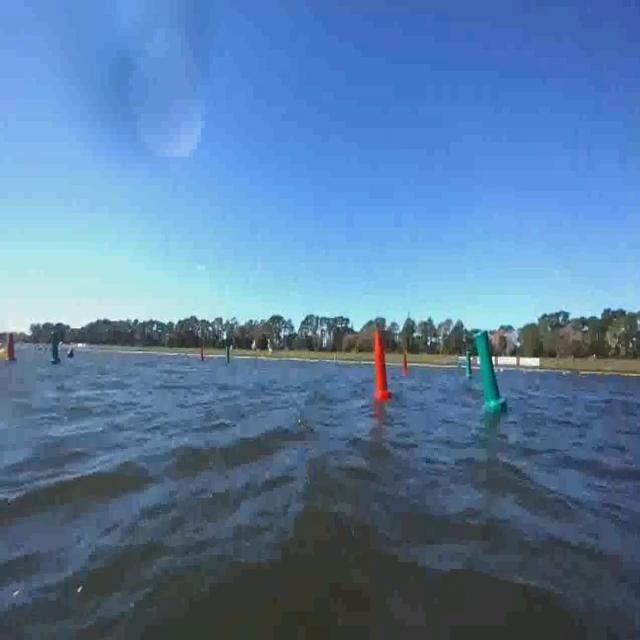black-buoy: (67, 348, 75, 360)
green-column-buoy: (476, 331, 508, 413), (49, 325, 65, 367), (468, 350, 475, 378), (224, 342, 231, 364)
red-column-buoy: (372, 328, 392, 400), (5, 332, 18, 364), (404, 356, 411, 376), (200, 345, 206, 362)
